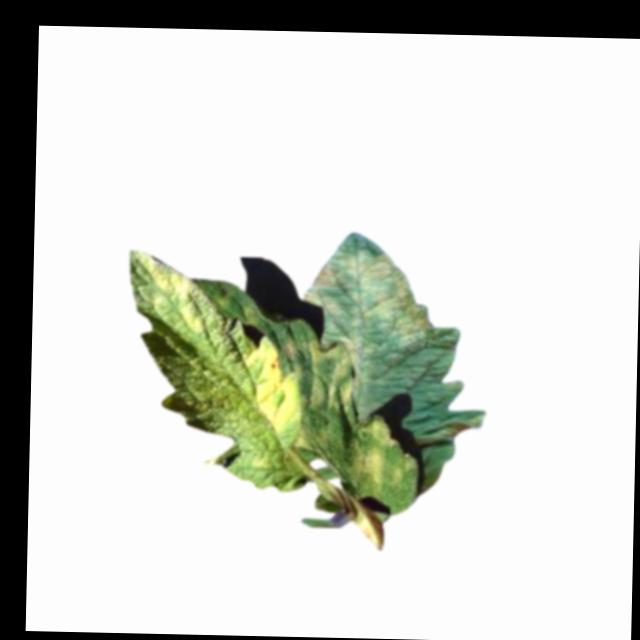Leaf_Mold: (299, 236, 435, 356), (242, 340, 305, 436), (142, 256, 211, 338), (349, 413, 407, 485), (305, 338, 356, 415)
